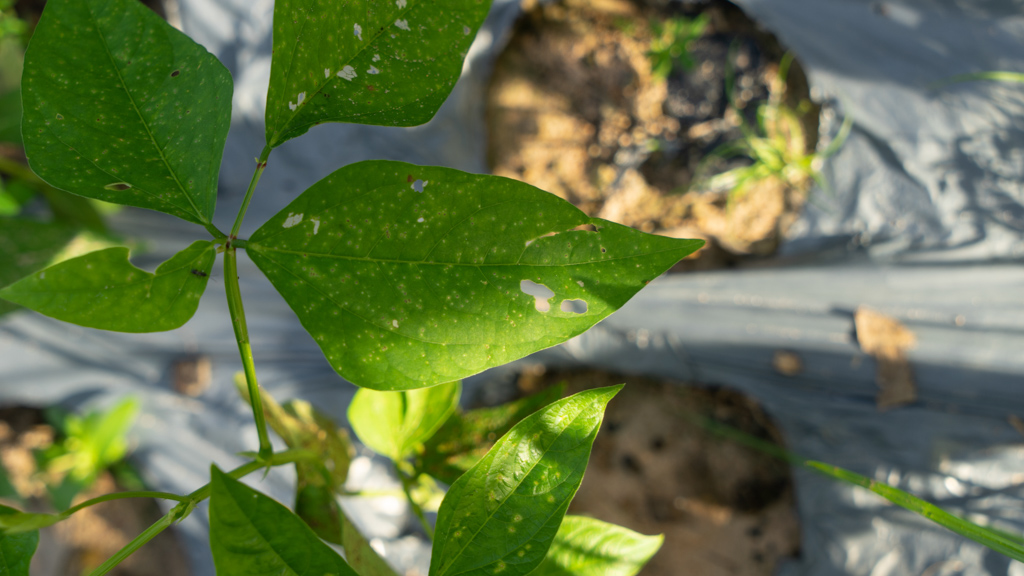Rust: (269, 174, 663, 377), (25, 3, 218, 219), (261, 3, 481, 140)
